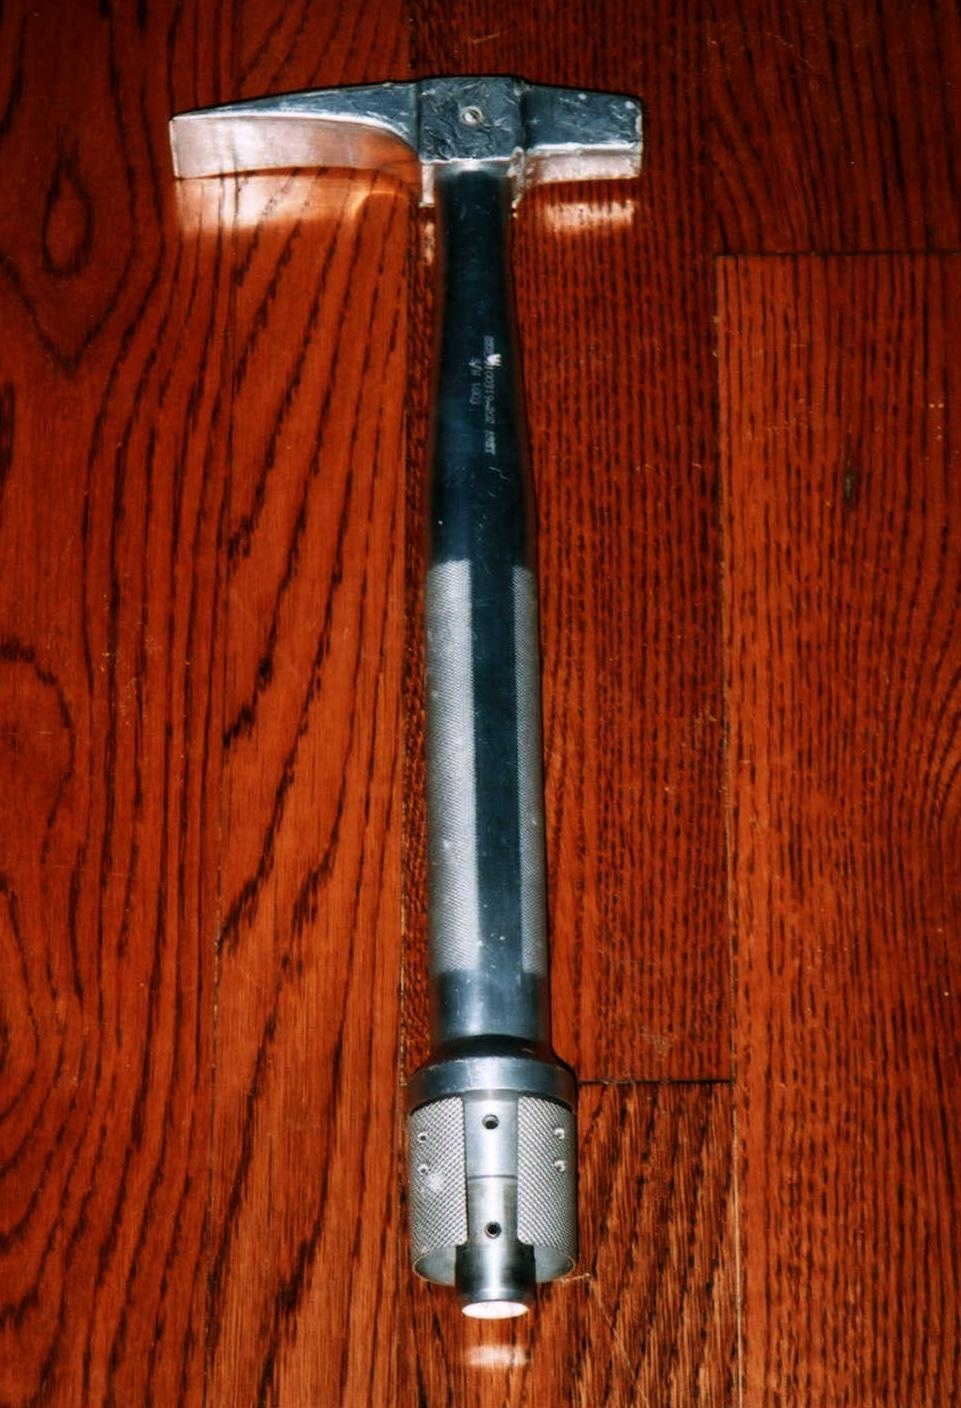hammer: (164, 72, 653, 1318)
